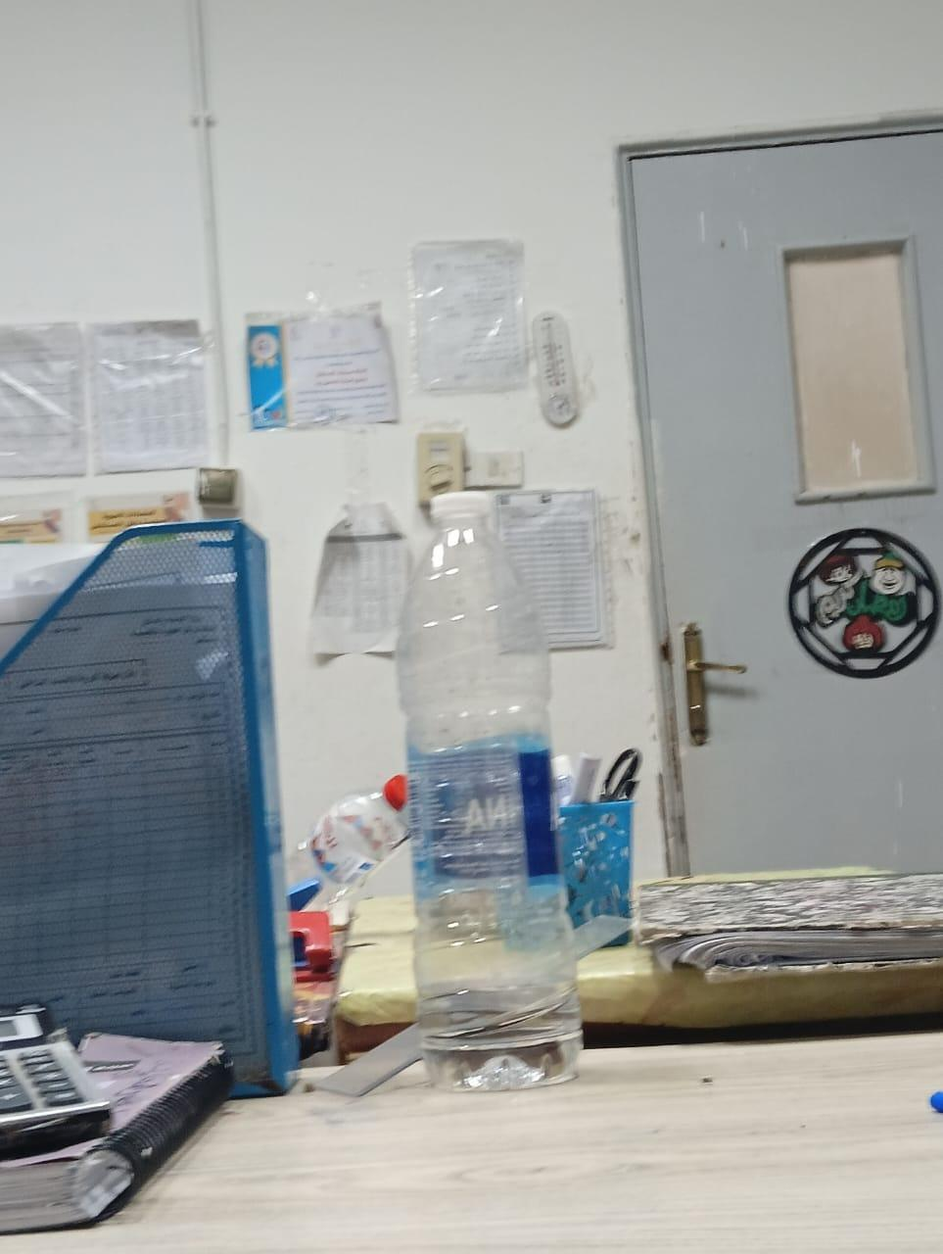Bottle: (397, 493, 581, 1088), (309, 775, 407, 903)
